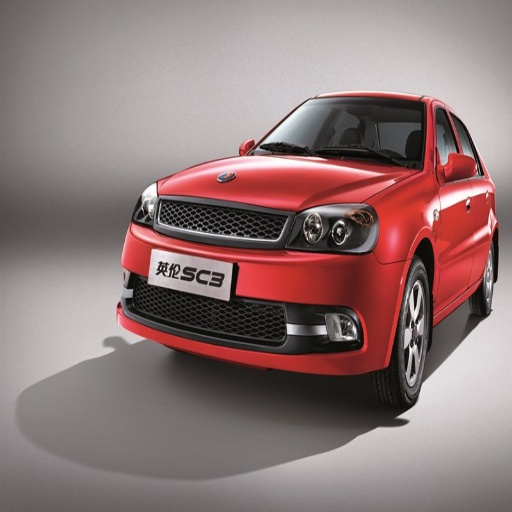front_bumper: (126, 196, 408, 375)
front_glass: (251, 98, 424, 168)
front_left_door: (432, 108, 473, 303)
